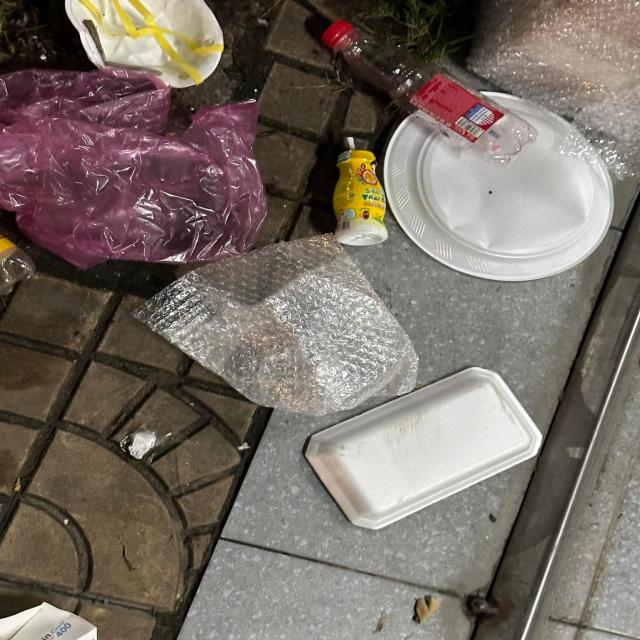bag: (0, 68, 270, 270), (130, 233, 418, 416)
bottle: (322, 19, 540, 166), (333, 137, 388, 245)
foam box: (304, 366, 544, 530)
mask: (64, 0, 224, 88)
plastic utensil: (384, 91, 614, 281)
